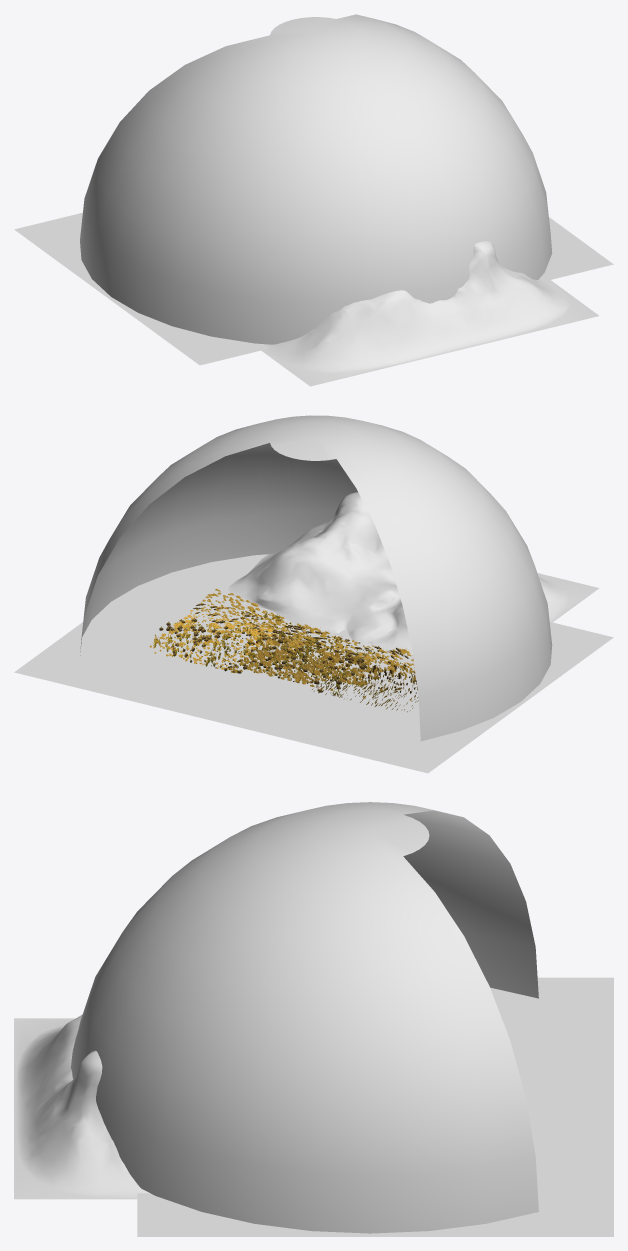
The model's file is Ground.fbx.
The picture shows the model from 3 angles, top to bottom: view 1: azimuth 30°, elevation 25°; view 2: azimuth 150°, elevation 25°; view 3: azimuth 270°, elevation 25°; orthographic projection. The views are drawn at different scales.
Parts seen in each view (by area): view 1: Sphere, Hills, Ground; view 2: Sphere, Ground, Hills, Grass, Plant, Dandelions; view 3: Sphere, Ground, Hills.
Boxes of the visible parts, left/top/right/bottom form: Sphere: left=80, top=14, right=552, bottom=344; Hills: left=261, top=241, right=598, bottom=386; Ground: left=14, top=212, right=613, bottom=365; Sphere: left=80, top=415, right=552, bottom=741; Ground: left=14, top=554, right=613, bottom=773; Hills: left=228, top=492, right=599, bottom=655; Grass: left=149, top=588, right=418, bottom=710; Plant: left=159, top=603, right=416, bottom=711; Dandelions: left=153, top=609, right=414, bottom=702; Sphere: left=71, top=802, right=538, bottom=1233; Ground: left=137, top=977, right=613, bottom=1236; Hills: left=14, top=1014, right=149, bottom=1199.
Bounding box in the file's own units: 12171 × 6253 × 11909.
